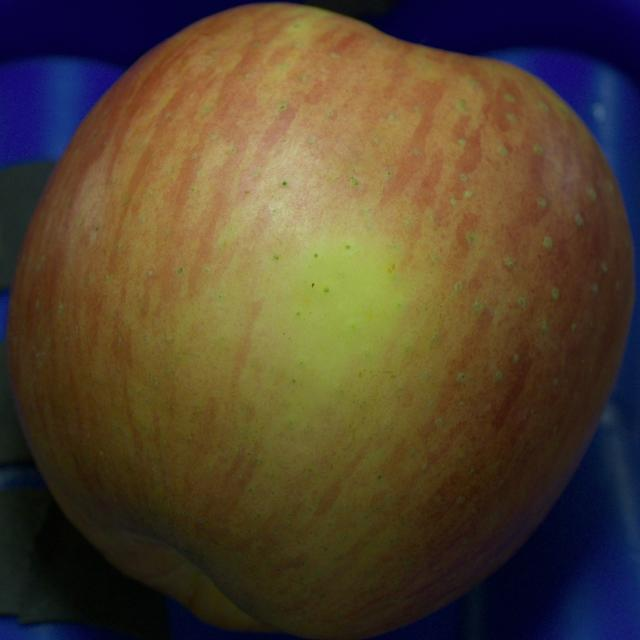apple: (6, 5, 633, 639)
